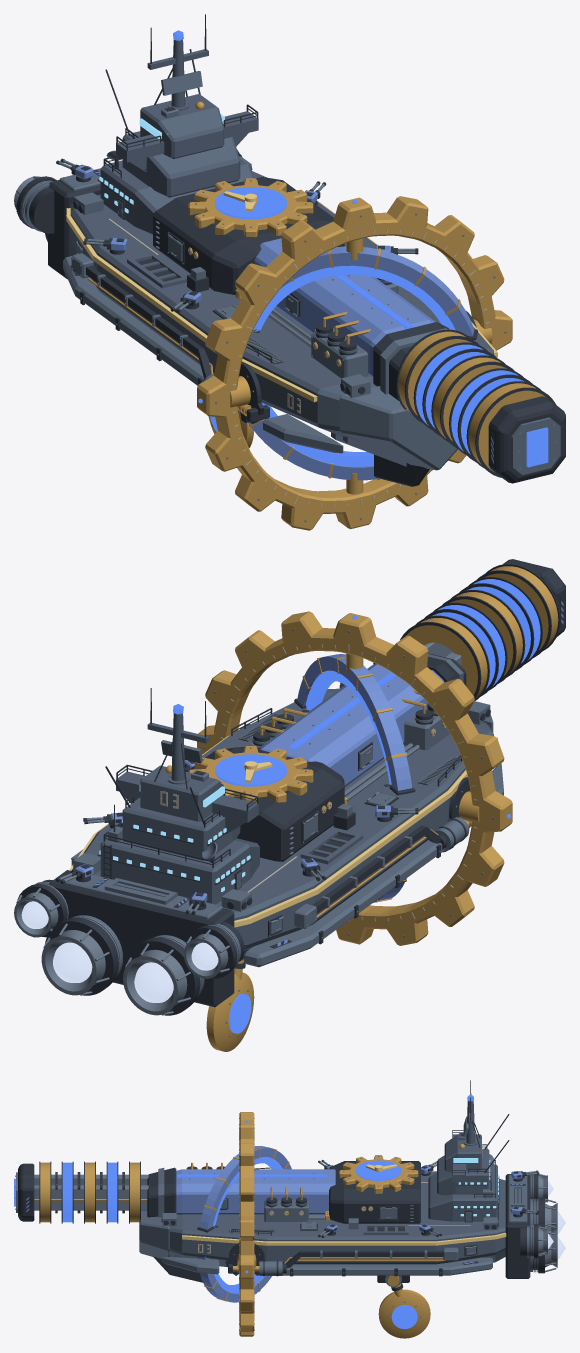
The model's file is pendulum.glb.
3 renders of one model, top to bottom at view 1: azimuth 30°, elevation 25°; view 2: azimuth 150°, elevation 25°; view 3: azimuth 270°, elevation 25°, orthographic. The views are drawn at different scales.
Visible parts, largest first — view 1: pendulum; view 2: pendulum; view 3: pendulum.
Part boxes in pixels (box(x1,y1,x2,y2)): pendulum: box(14, 14, 565, 530); pendulum: box(14, 559, 565, 1051); pendulum: box(14, 1080, 565, 1338).
Bounding box in the file's own units: 4.6 × 5.51 × 11.1.
